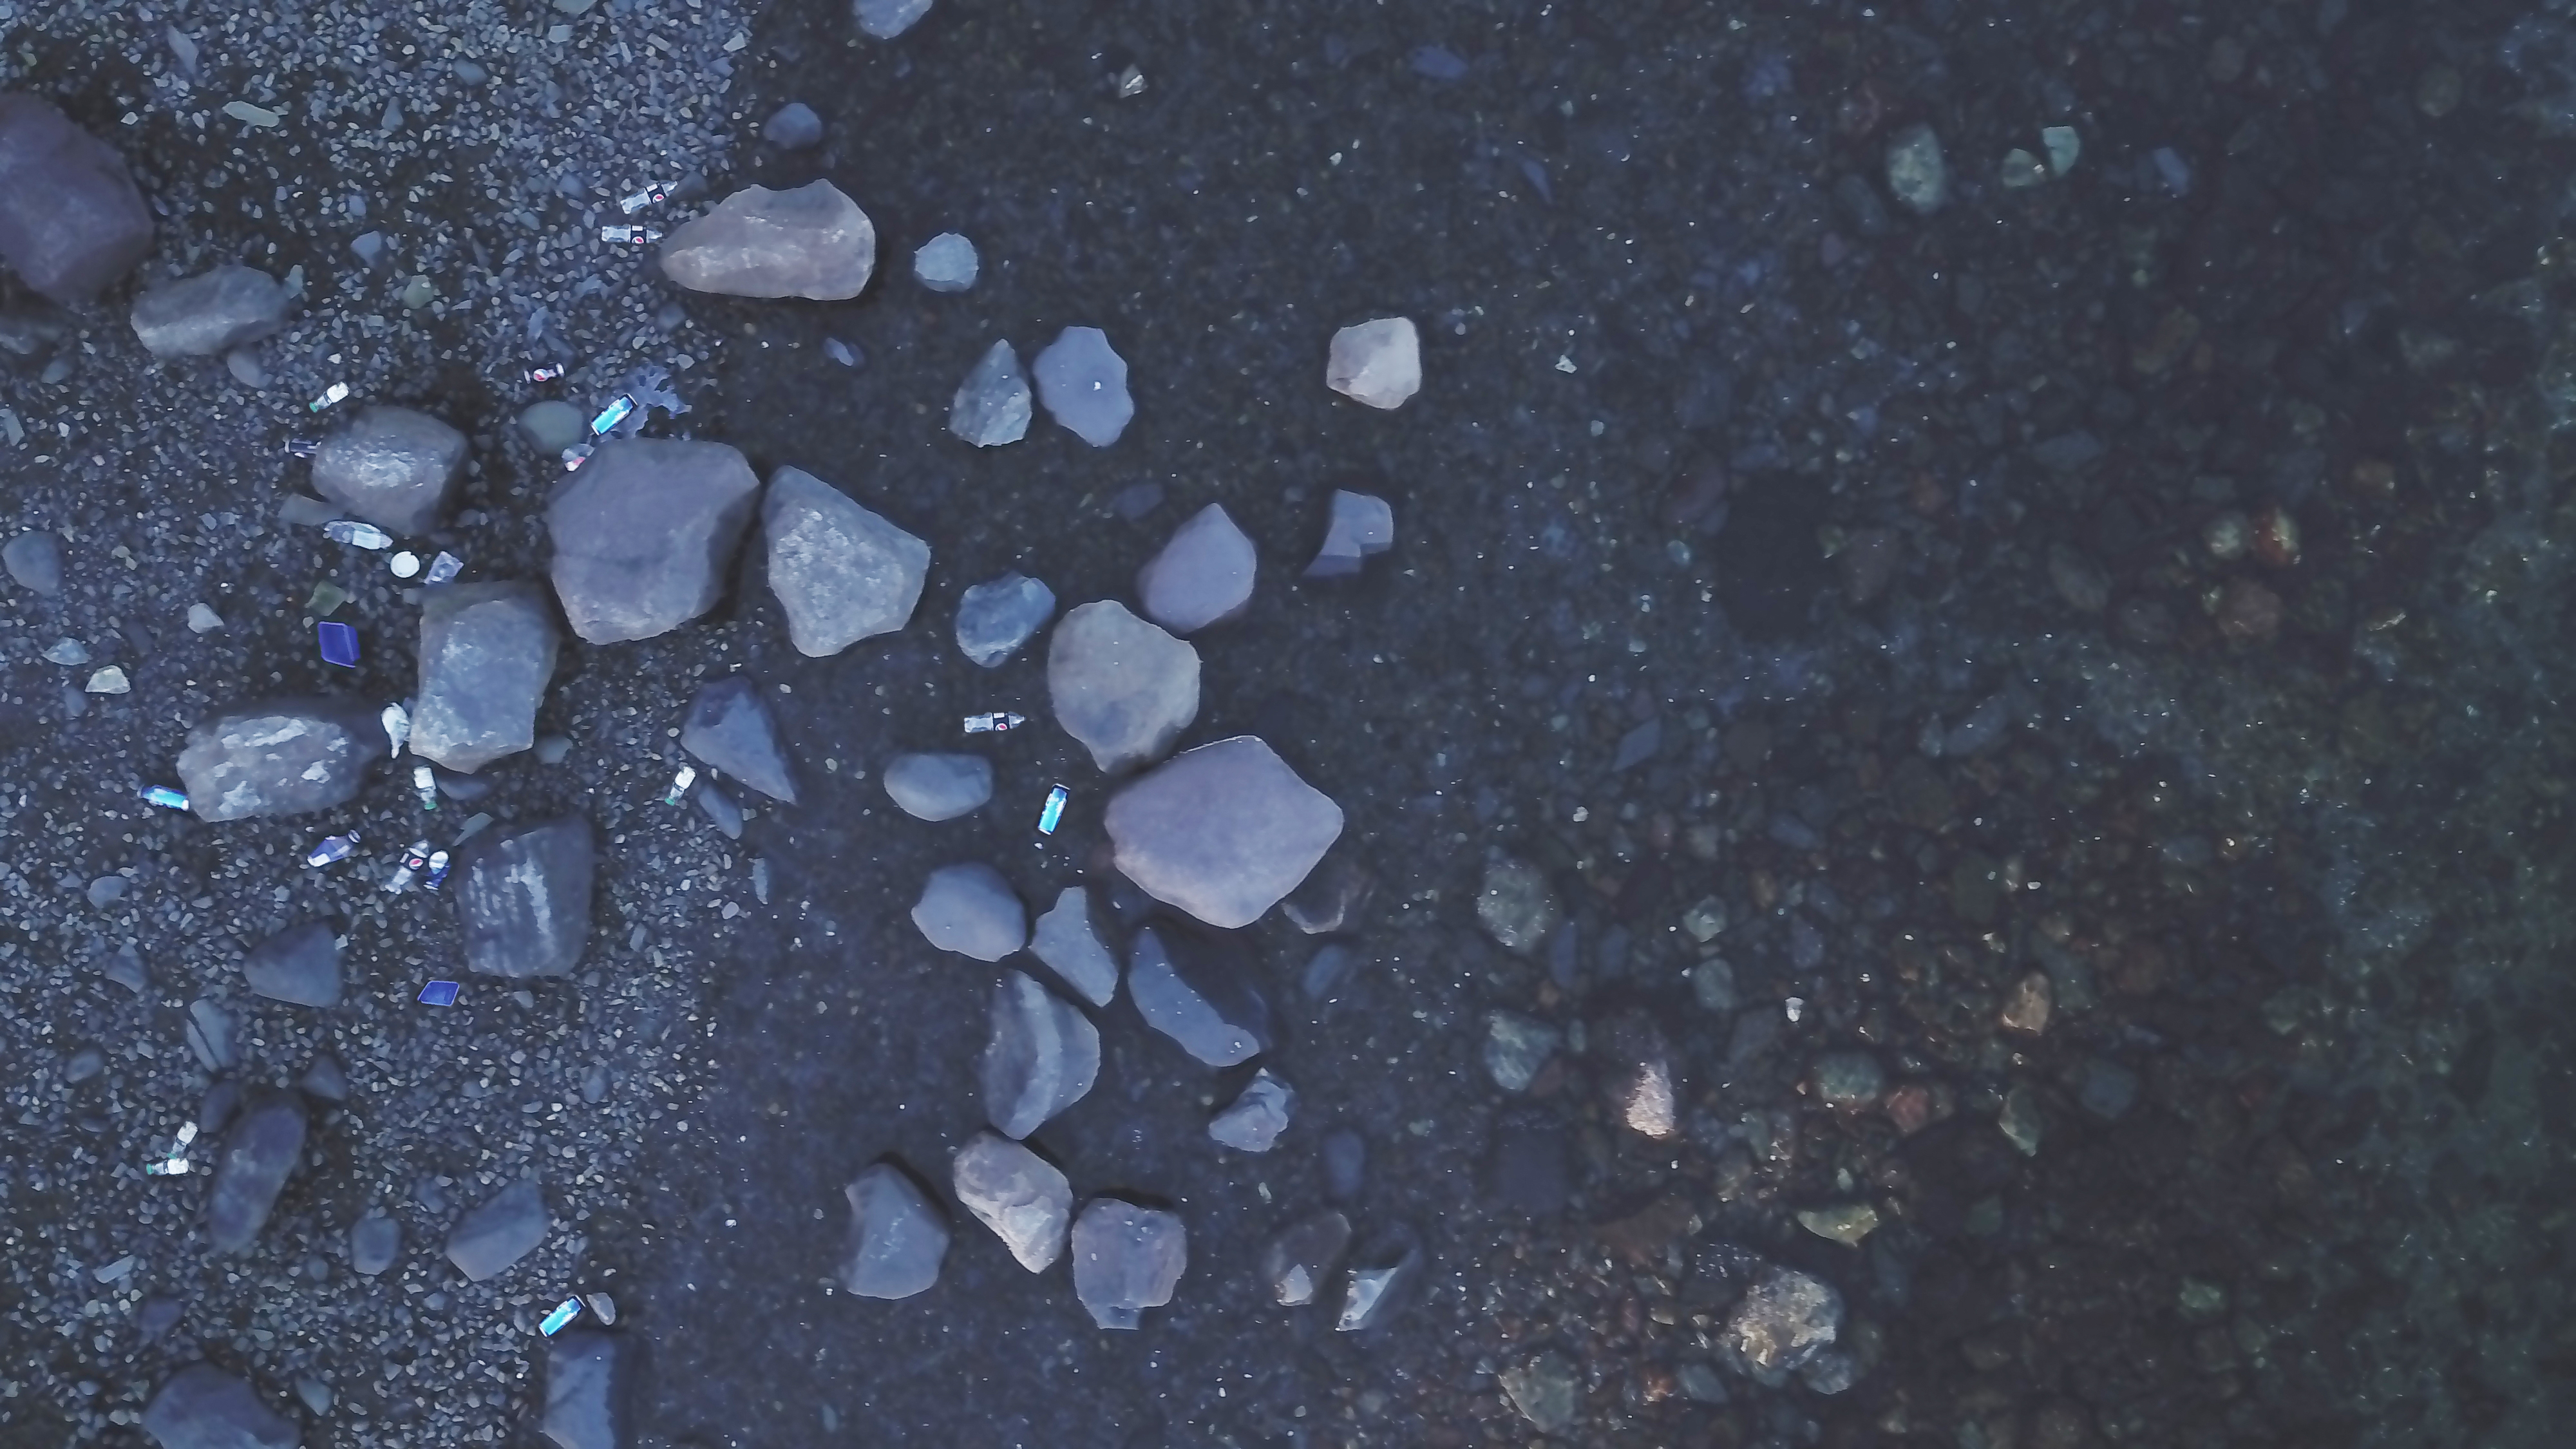Can: (306, 830, 366, 869), (587, 395, 639, 439), (1039, 780, 1076, 839), (540, 1295, 587, 1336), (133, 786, 196, 814), (520, 361, 573, 386), (428, 851, 449, 893), (283, 437, 322, 460)
Plastic: (320, 520, 407, 556), (311, 619, 363, 671), (382, 702, 412, 759), (414, 977, 464, 1010), (430, 556, 464, 587), (561, 442, 594, 471), (391, 552, 423, 580)
PlasticBottle: (384, 835, 430, 895), (619, 180, 681, 216), (955, 709, 1031, 734), (593, 223, 672, 246), (163, 1118, 203, 1161), (410, 768, 446, 814), (306, 380, 356, 412), (663, 763, 697, 809), (138, 1159, 195, 1178)
